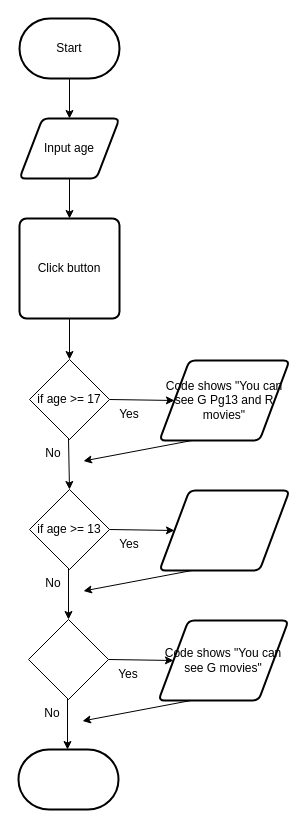
This 307x827 diagram has some shape labels left out. Here are the shapes that lost their labels. From the top down, the box of each, then its label:
(158, 489, 290, 571): Code shows "You can see G and Pg13 movies"
(28, 618, 108, 700): if age <= 12
(17, 748, 119, 810): Stop
